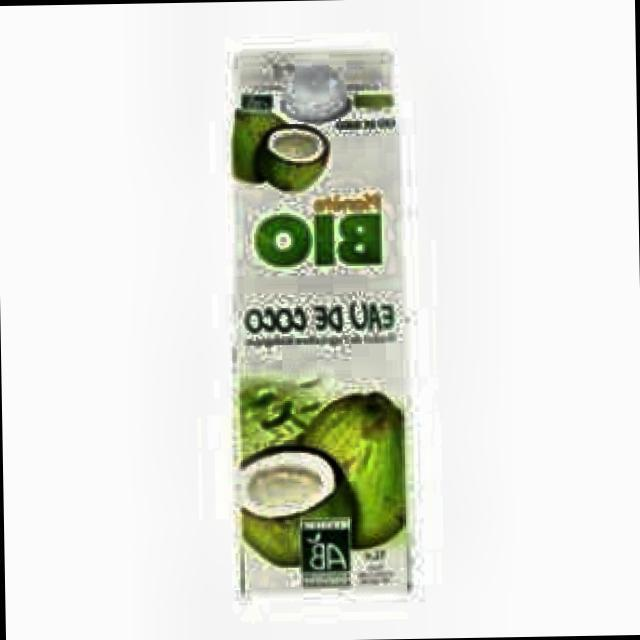cardboard: (226, 44, 414, 596)
